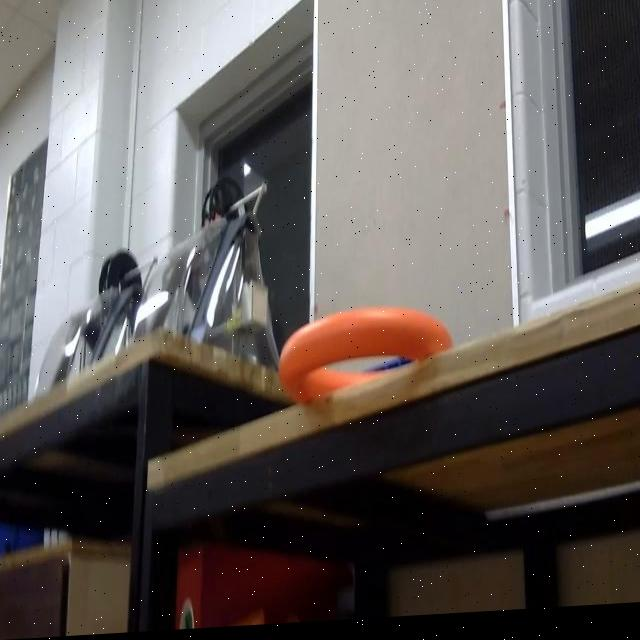note: (276, 305, 454, 410)
